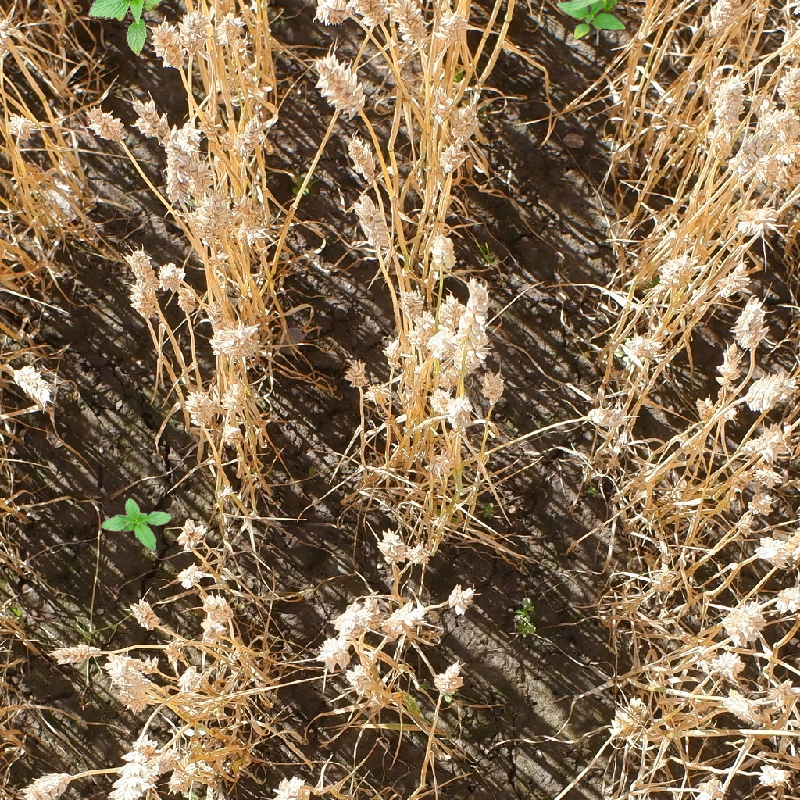spikelet: (312, 52, 369, 116), (455, 276, 492, 371), (160, 120, 202, 200), (104, 746, 156, 800), (104, 651, 152, 709), (649, 249, 698, 301), (742, 368, 797, 413), (124, 247, 159, 311), (607, 695, 652, 744), (720, 598, 767, 643), (731, 296, 769, 350), (211, 320, 262, 360), (390, 1, 429, 53), (345, 657, 389, 703), (708, 71, 746, 124), (615, 331, 662, 373), (230, 197, 269, 247), (11, 361, 54, 405), (147, 20, 185, 69), (382, 596, 427, 637), (731, 200, 777, 239), (179, 8, 212, 61), (738, 425, 785, 462), (165, 755, 207, 796), (19, 767, 71, 799), (332, 596, 373, 635), (198, 592, 235, 634), (85, 105, 125, 143), (714, 259, 752, 299), (188, 193, 225, 234), (50, 639, 101, 667), (754, 104, 796, 138), (719, 686, 758, 722), (582, 401, 628, 431), (425, 230, 458, 271), (127, 277, 160, 318), (345, 135, 377, 177), (694, 394, 736, 426), (313, 630, 351, 665), (431, 660, 465, 699), (183, 387, 215, 426), (219, 378, 251, 416), (127, 595, 161, 630), (752, 532, 787, 565), (443, 392, 473, 430), (269, 773, 311, 800), (702, 1, 736, 34), (431, 7, 462, 43), (436, 138, 466, 175), (5, 111, 39, 143), (376, 526, 406, 562), (708, 649, 745, 678), (433, 292, 461, 330), (156, 259, 187, 293), (755, 760, 791, 789), (397, 285, 426, 321), (478, 369, 507, 405), (445, 582, 477, 614), (768, 678, 799, 711), (175, 662, 206, 695), (426, 325, 456, 359), (311, 1, 353, 25), (774, 60, 799, 100), (350, 1, 388, 27), (744, 488, 777, 517), (212, 12, 240, 46), (198, 614, 229, 644), (773, 580, 799, 615), (648, 563, 677, 594), (362, 379, 394, 407), (749, 464, 782, 490), (405, 538, 434, 566), (218, 418, 244, 446)
weed: (81, 1, 165, 59), (101, 498, 172, 551), (556, 1, 626, 46), (512, 594, 538, 638)
